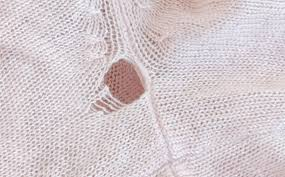Hole: (74, 29, 169, 125)
